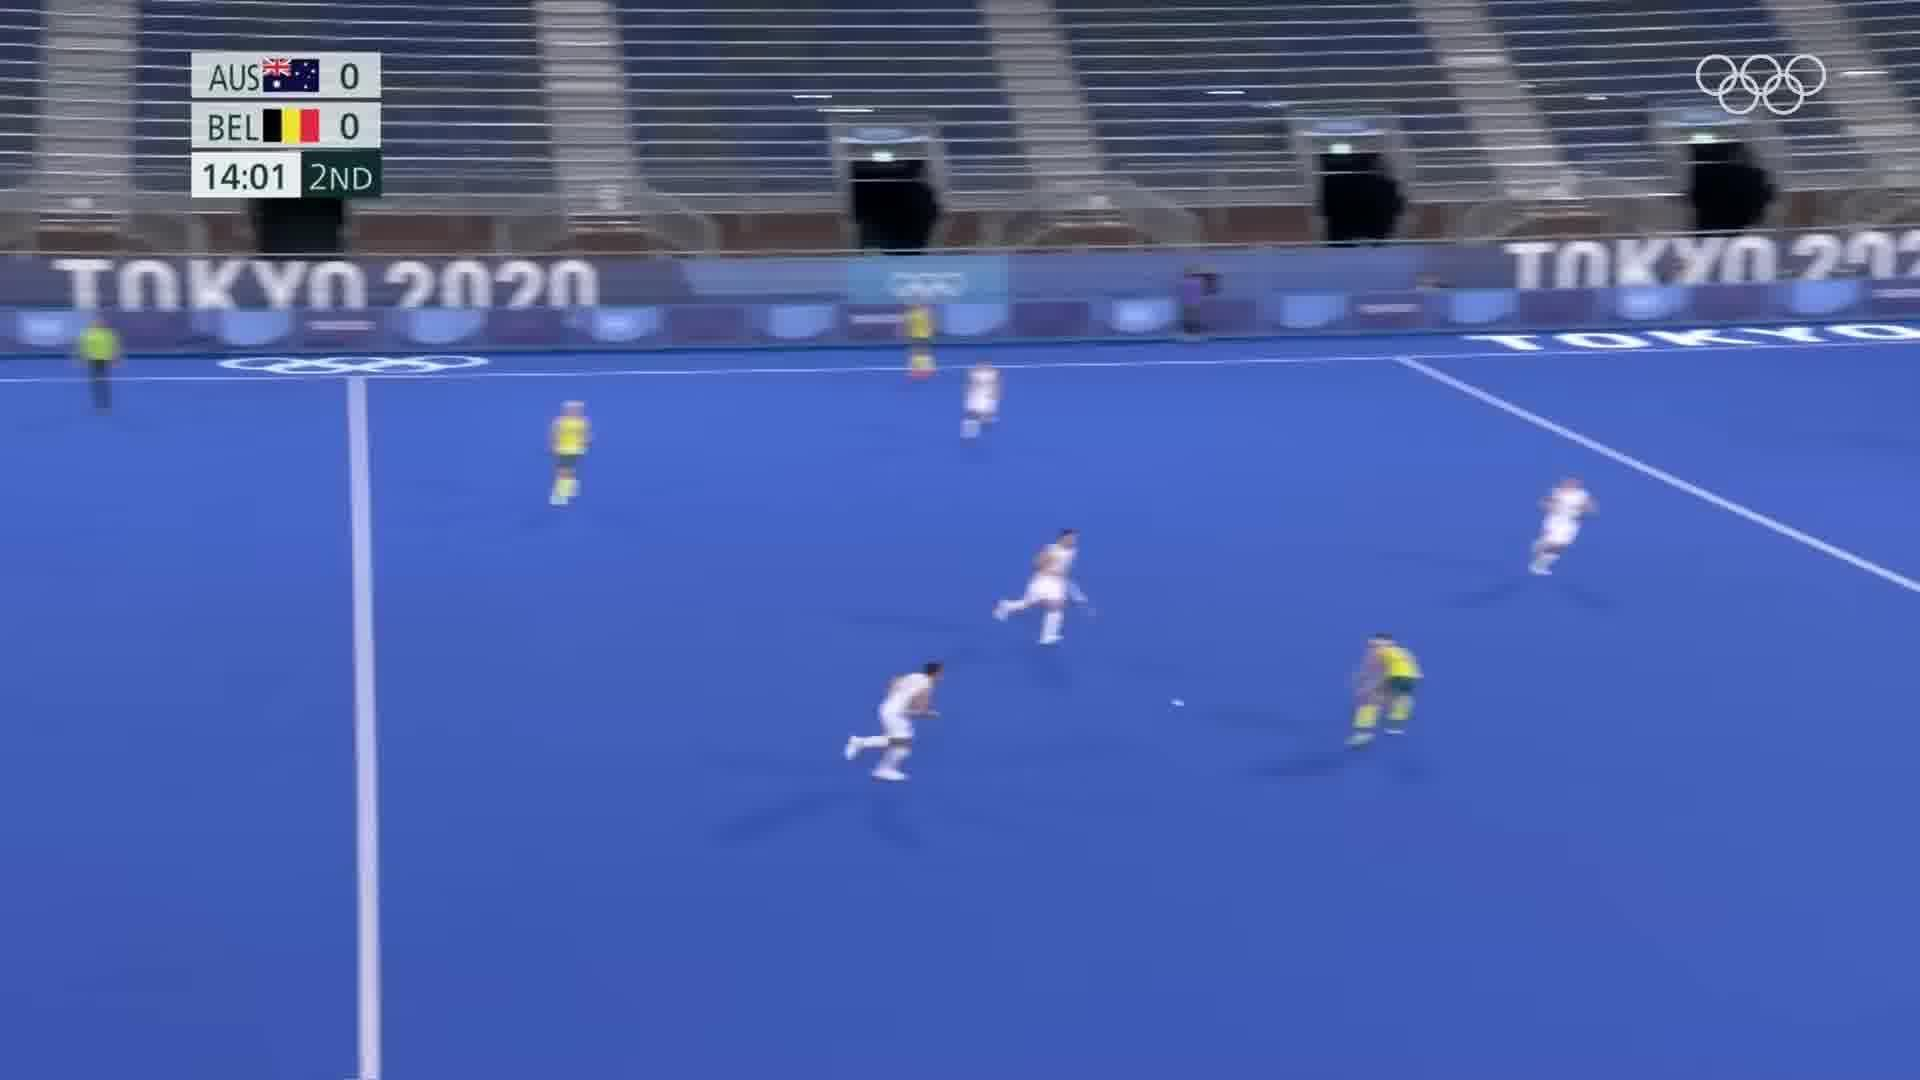ball: (1166, 694, 1191, 709)
